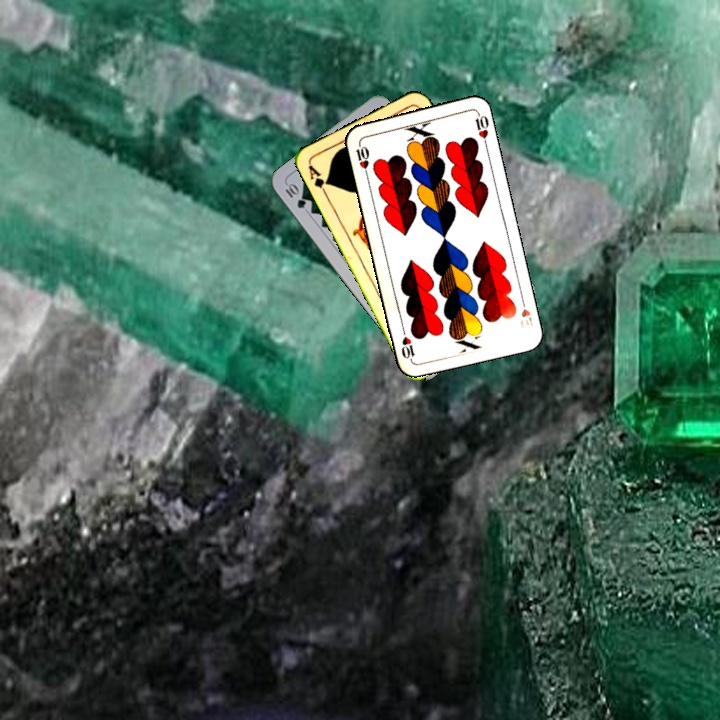G10: (281, 179, 309, 211)
GA: (304, 161, 332, 198)
H10: (351, 138, 372, 178), (517, 294, 536, 329)
